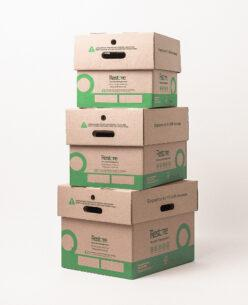Box: (62, 212, 194, 279), (58, 180, 198, 225), (70, 142, 186, 190), (66, 108, 188, 146), (74, 32, 179, 72), (77, 72, 177, 108)
